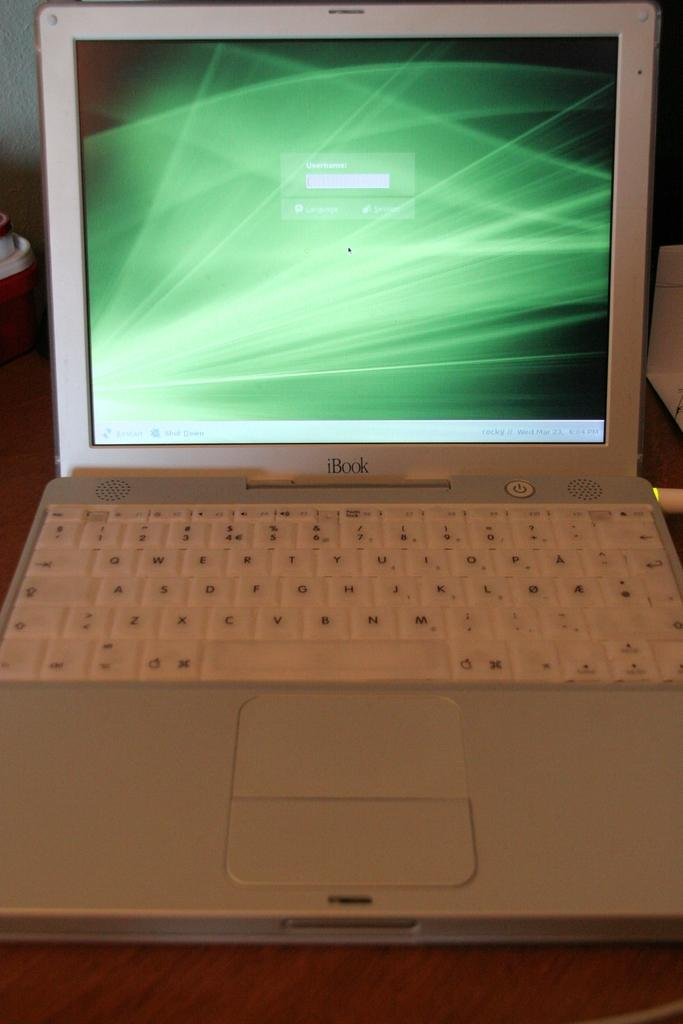Laptop: (0, 1, 682, 944)
